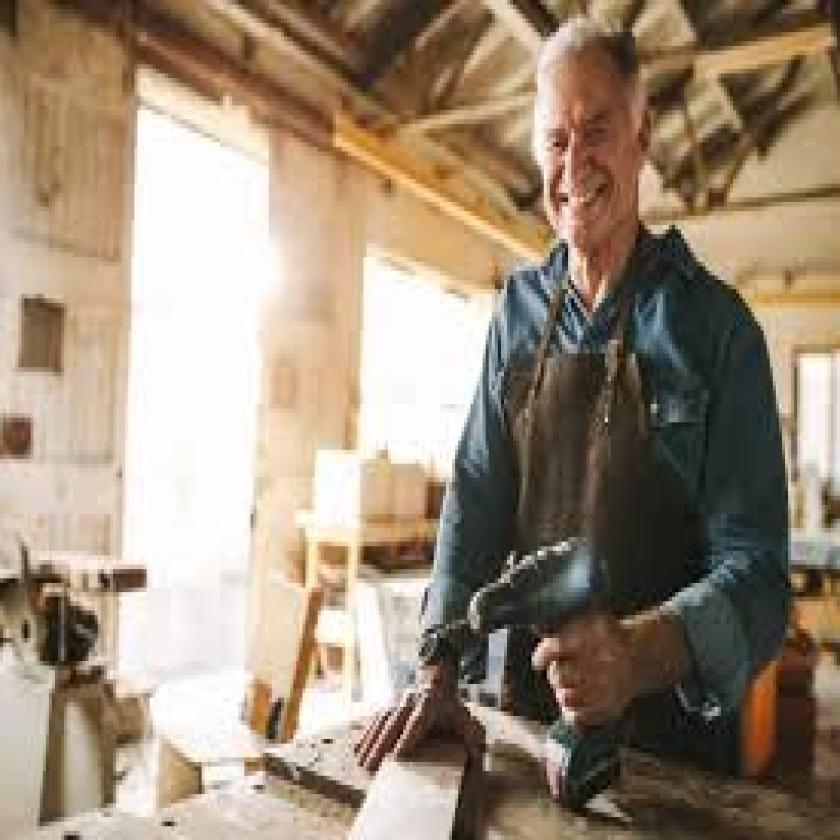Sin_casco: (526, 19, 658, 257)
